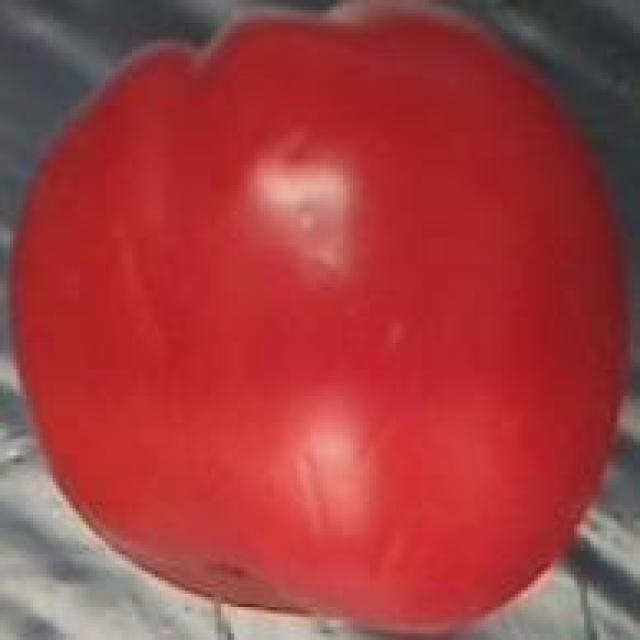ripe tomato: (6, 0, 636, 640)
